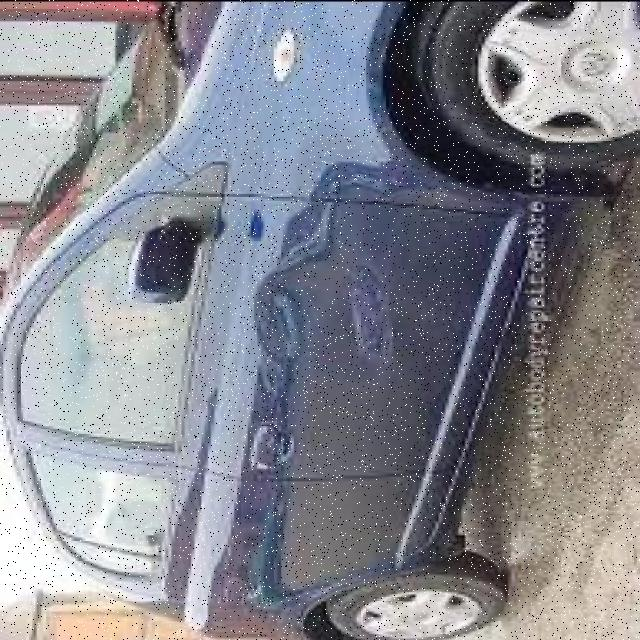damage: (342, 260, 401, 359), (255, 273, 311, 365)
